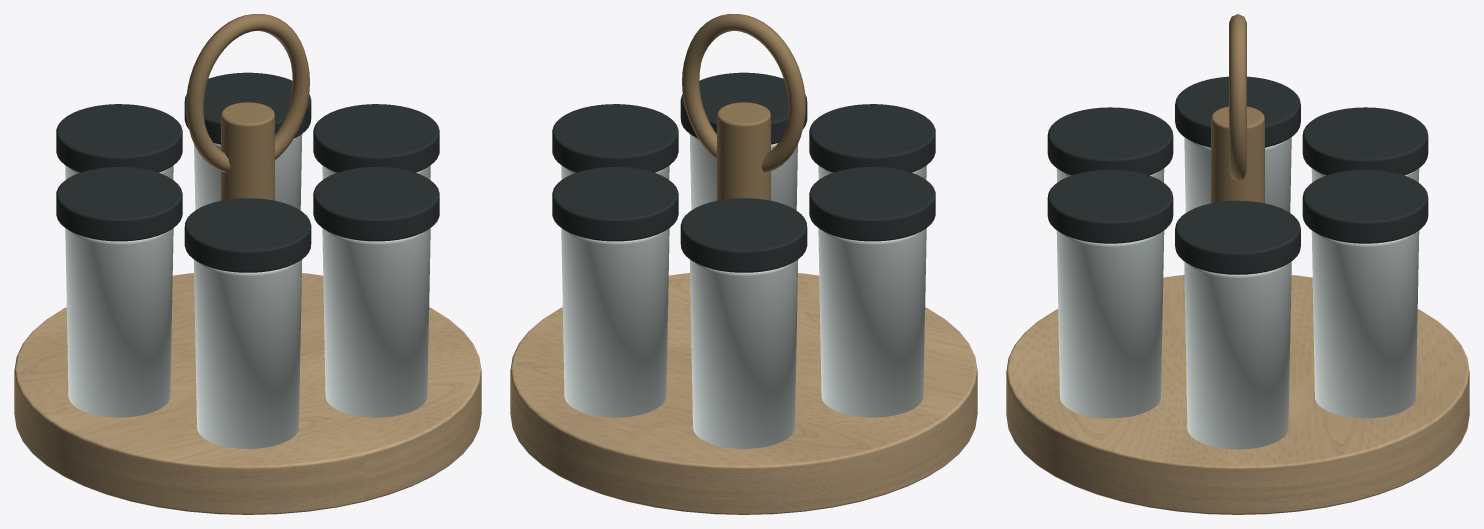
Rendered from spice-carousel.glb.
The picture shows the model from 3 angles, left to right: view 1: azimuth 30°, elevation 25°; view 2: azimuth 150°, elevation 25°; view 3: azimuth 270°, elevation 25°; orthographic projection.
Visible parts, largest first — view 1: Rotating spice platform, Empty spice jar.005, Empty spice jar.003, Empty spice jar.004, Empty spice jar fitted lid.004, Empty spice jar fitted lid.005, Empty spice jar fitted lid.003, Empty spice jar fitted lid.002, Empty spice jar fitted lid, Carousel carrying ring, Carousel center stem, Empty spice jar fitted lid.001 (+1 smaller); view 2: Rotating spice platform, Empty spice jar.001, Empty spice jar.003, Empty spice jar.002, Empty spice jar fitted lid.002, Empty spice jar fitted lid.001, Empty spice jar fitted lid.003, Empty spice jar fitted lid.004, Empty spice jar fitted lid, Carousel carrying ring, Carousel center stem, Empty spice jar fitted lid.005 (+1 smaller); view 3: Rotating spice platform, Empty spice jar, Empty spice jar.001, Empty spice jar.005, Empty spice jar fitted lid.001, Empty spice jar fitted lid.005, Empty spice jar fitted lid, Empty spice jar fitted lid.002, Empty spice jar fitted lid.004, Empty spice jar fitted lid.003, Carousel center stem, Empty spice jar.003 (+1 smaller).
Boxes of the visible parts, bbox=[...] form: Rotating spice platform: bbox=[14, 273, 481, 514]; Empty spice jar.005: bbox=[322, 228, 430, 417]; Empty spice jar.003: bbox=[65, 228, 173, 417]; Empty spice jar.004: bbox=[193, 259, 302, 448]; Empty spice jar fitted lid.004: bbox=[184, 198, 311, 272]; Empty spice jar fitted lid.005: bbox=[313, 167, 439, 241]; Empty spice jar fitted lid.003: bbox=[56, 167, 182, 241]; Empty spice jar fitted lid.002: bbox=[56, 104, 182, 172]; Empty spice jar fitted lid: bbox=[313, 104, 439, 172]; Carousel carrying ring: bbox=[186, 14, 309, 172]; Carousel center stem: bbox=[221, 102, 274, 200]; Empty spice jar fitted lid.001: bbox=[184, 72, 311, 144]; Rotating spice platform: bbox=[510, 273, 977, 514]; Empty spice jar.001: bbox=[561, 228, 669, 417]; Empty spice jar.003: bbox=[818, 228, 926, 417]; Empty spice jar.002: bbox=[689, 259, 798, 448]; Empty spice jar fitted lid.002: bbox=[680, 198, 807, 272]; Empty spice jar fitted lid.001: bbox=[552, 167, 678, 241]; Empty spice jar fitted lid.003: bbox=[809, 167, 935, 241]; Empty spice jar fitted lid.004: bbox=[809, 104, 935, 172]; Empty spice jar fitted lid: bbox=[552, 104, 678, 172]; Carousel carrying ring: bbox=[682, 14, 805, 172]; Carousel center stem: bbox=[717, 102, 770, 200]; Empty spice jar fitted lid.005: bbox=[680, 72, 807, 144]; Rotating spice platform: bbox=[1006, 275, 1469, 514]; Empty spice jar: bbox=[1184, 261, 1291, 449]; Empty spice jar.001: bbox=[1311, 230, 1419, 418]; Empty spice jar.005: bbox=[1056, 230, 1164, 418]; Empty spice jar fitted lid.001: bbox=[1302, 169, 1428, 243]; Empty spice jar fitted lid.005: bbox=[1047, 169, 1173, 243]; Empty spice jar fitted lid: bbox=[1175, 200, 1300, 274]; Empty spice jar fitted lid.002: bbox=[1302, 107, 1428, 175]; Empty spice jar fitted lid.004: bbox=[1047, 107, 1173, 175]; Empty spice jar fitted lid.003: bbox=[1175, 76, 1300, 147]; Carousel center stem: bbox=[1211, 106, 1264, 203]; Empty spice jar.003: bbox=[1184, 137, 1291, 212].
Bounding box in the file's own units: 0.258 × 0.245 × 0.258.
4 materials, 4 textured.
